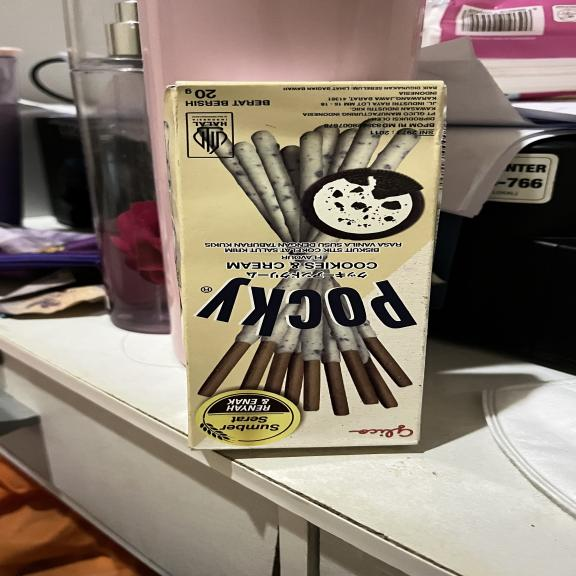Kertas: (173, 83, 444, 449)
